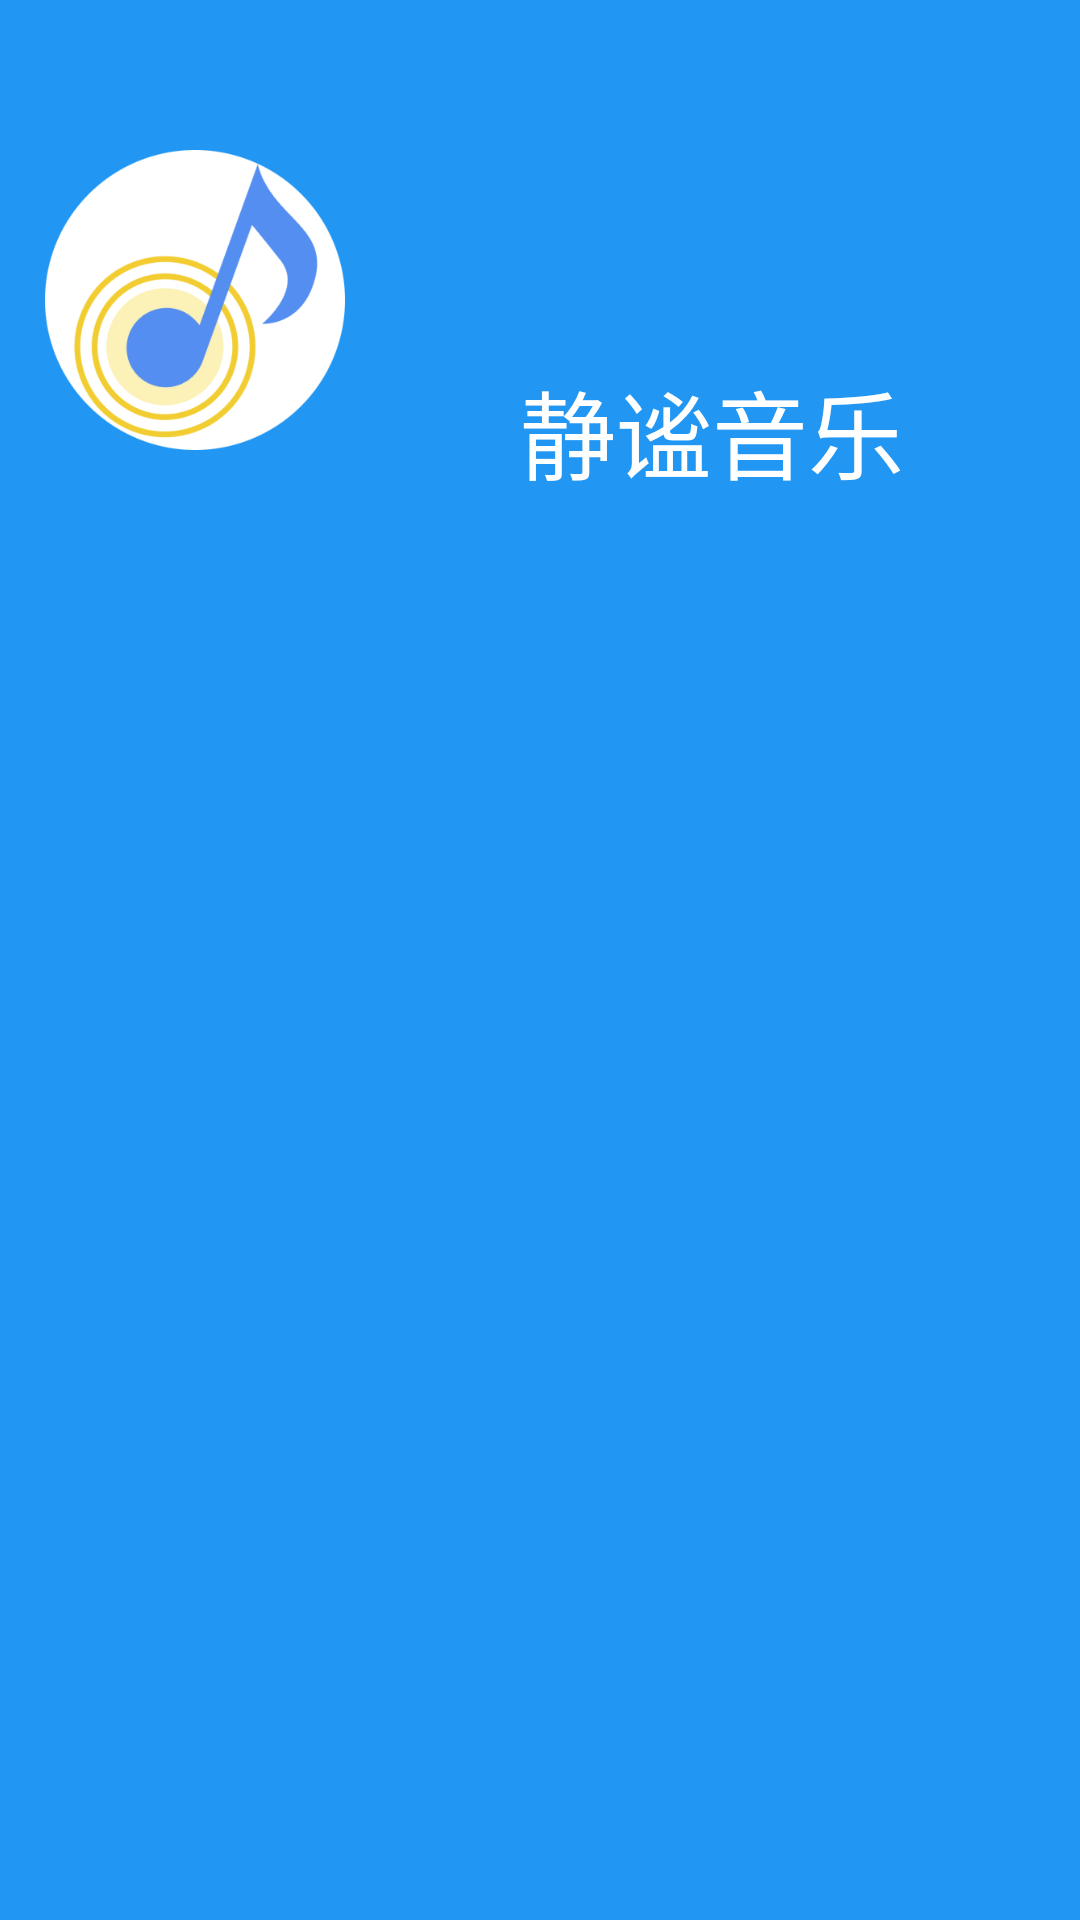

Screen size 1080x1920. Icon name, then its box in pixels as (x1, y1, x2, y2):
notecircle: (45, 150, 345, 450)
